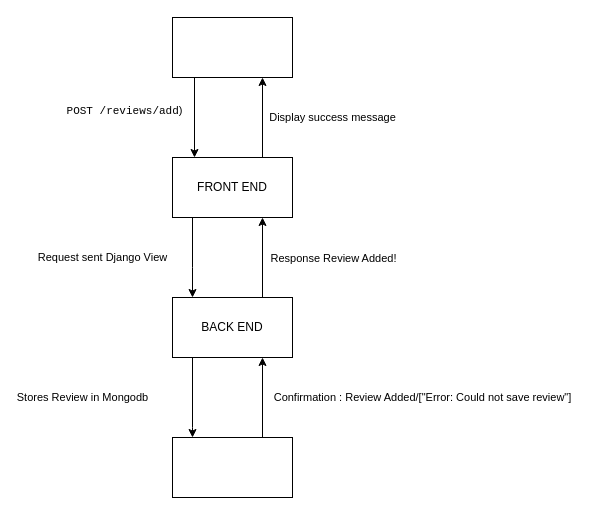
Image size: 589x515. Some labels were removed from this diagram. The shapes that lost their labels are listed below. From the top down, each one's centre as x and y in pixels, then its label:
At point 232,47: "USER".
At point 232,467: "DATABASE".
